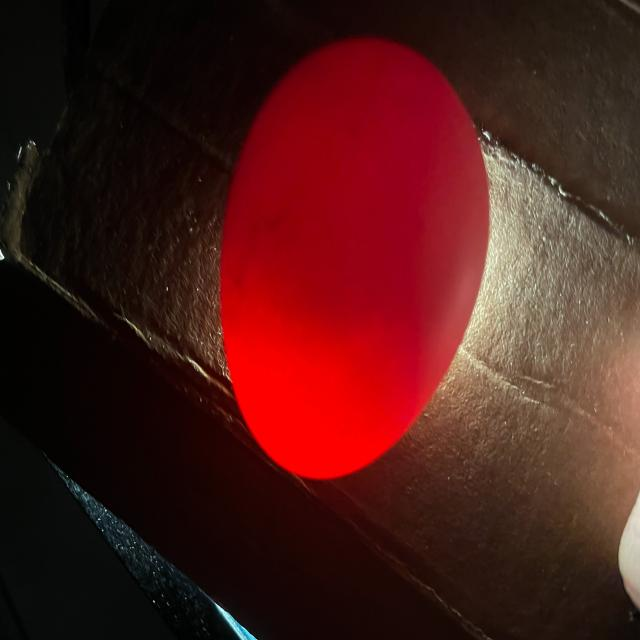fertile: (221, 38, 489, 478)
